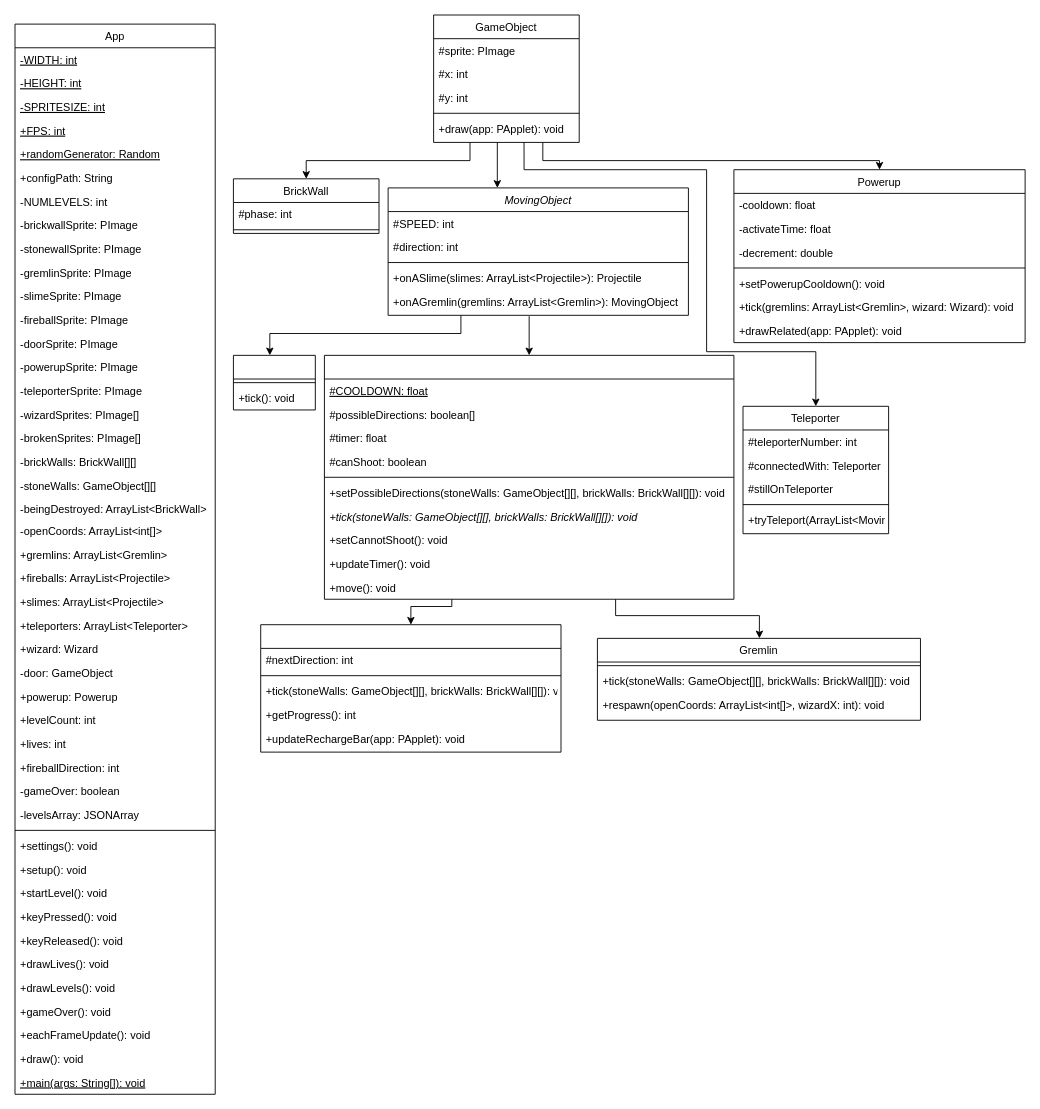
The diagram is 1040 pixels wide and 1109 high, and some of its shapes have lost their labels. The box of each missing label's shape, as (x1, y1, x2, y2) in pixels:
MovingCharacter: (324, 354, 734, 599)
Projectile: (233, 354, 315, 410)
Wizard: (260, 624, 561, 752)
